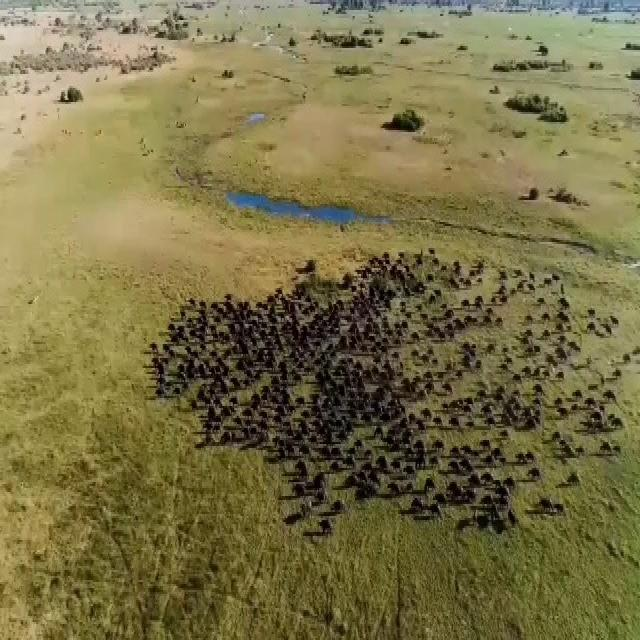Buffalo: (322, 312, 368, 367), (333, 369, 379, 417), (164, 328, 200, 387), (195, 390, 234, 440), (271, 328, 316, 370), (464, 493, 512, 528), (276, 396, 300, 463), (354, 469, 390, 505), (224, 327, 258, 364), (246, 408, 269, 458), (387, 376, 411, 423), (314, 504, 340, 546), (450, 436, 476, 477), (427, 314, 456, 348), (417, 367, 448, 398), (411, 483, 435, 523), (364, 263, 389, 299), (310, 417, 338, 447), (494, 392, 522, 421), (443, 399, 471, 426), (393, 432, 420, 459), (253, 299, 279, 327), (379, 330, 396, 360), (430, 290, 444, 298)
